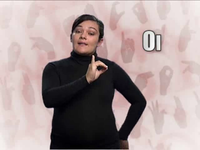oi: (82, 53, 111, 84)
